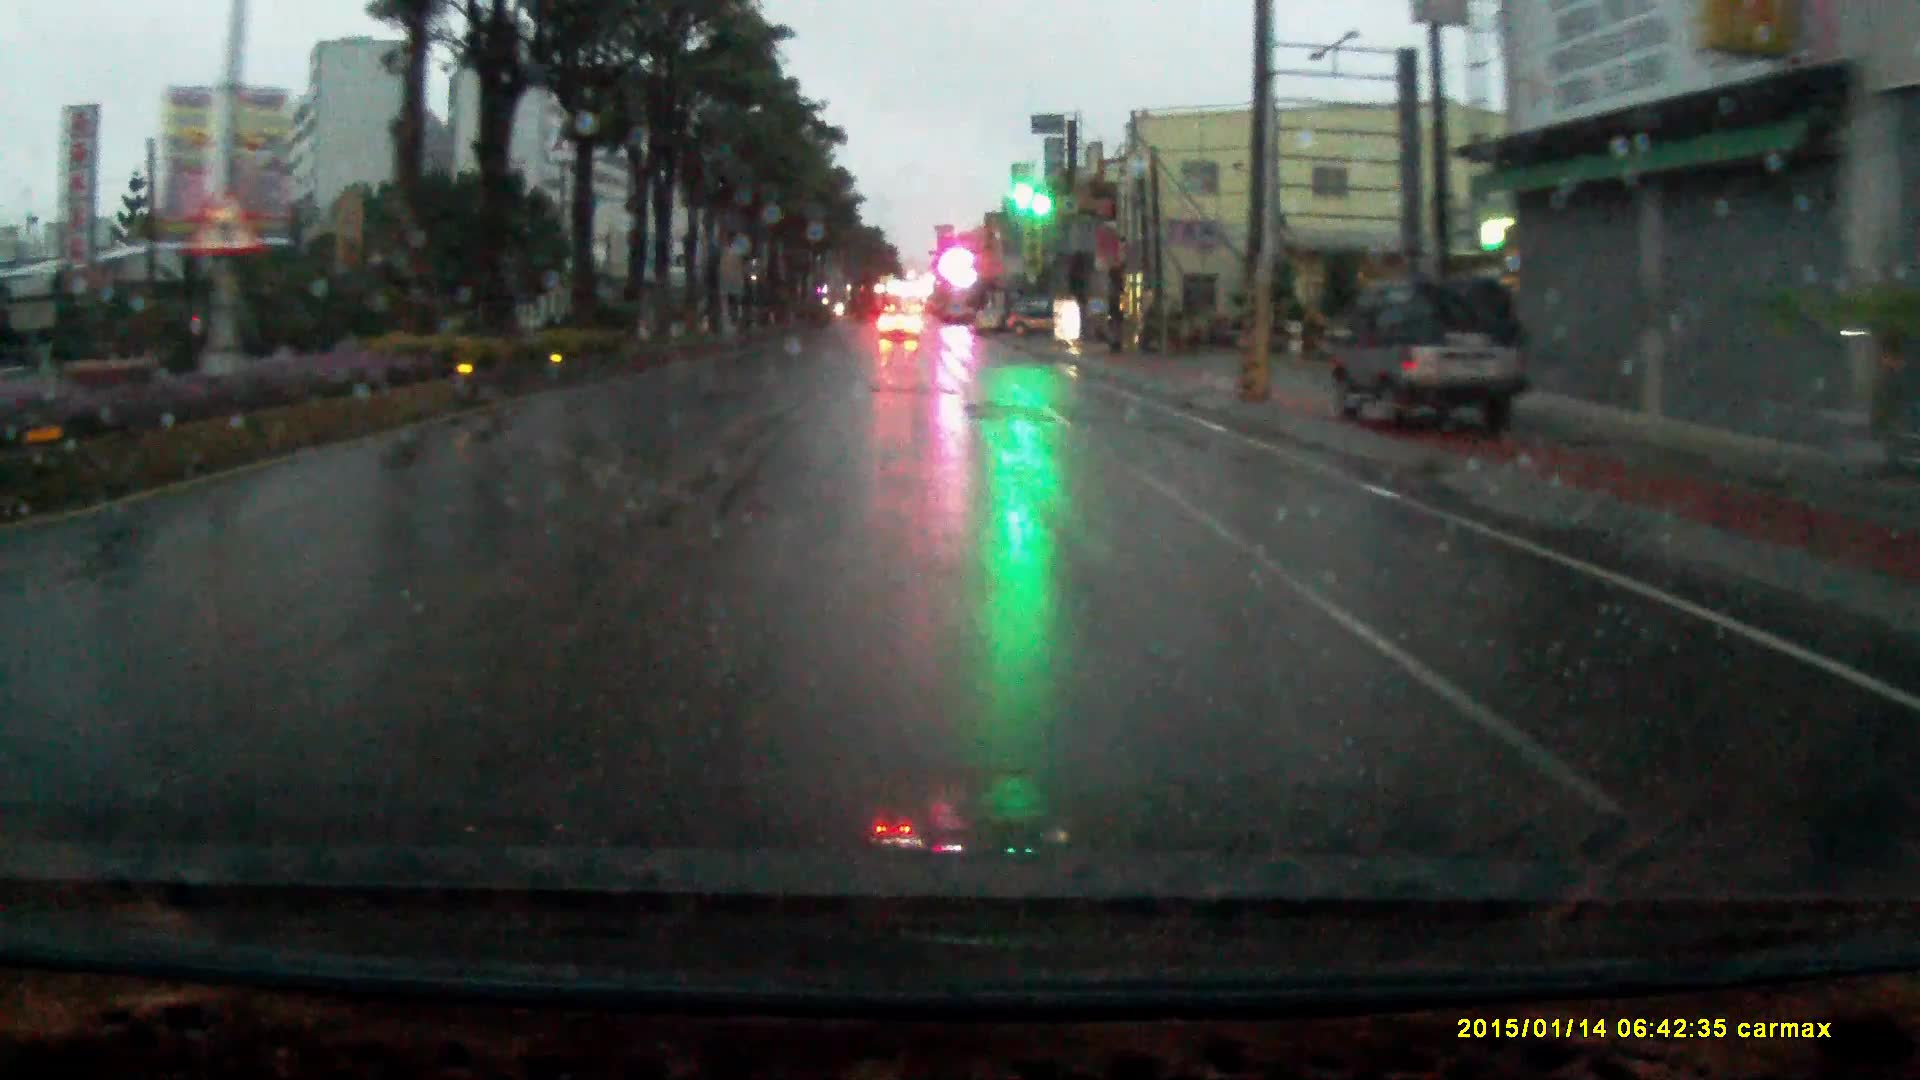vehicle: (1331, 276, 1534, 433), (1004, 295, 1058, 334), (880, 309, 922, 343)
